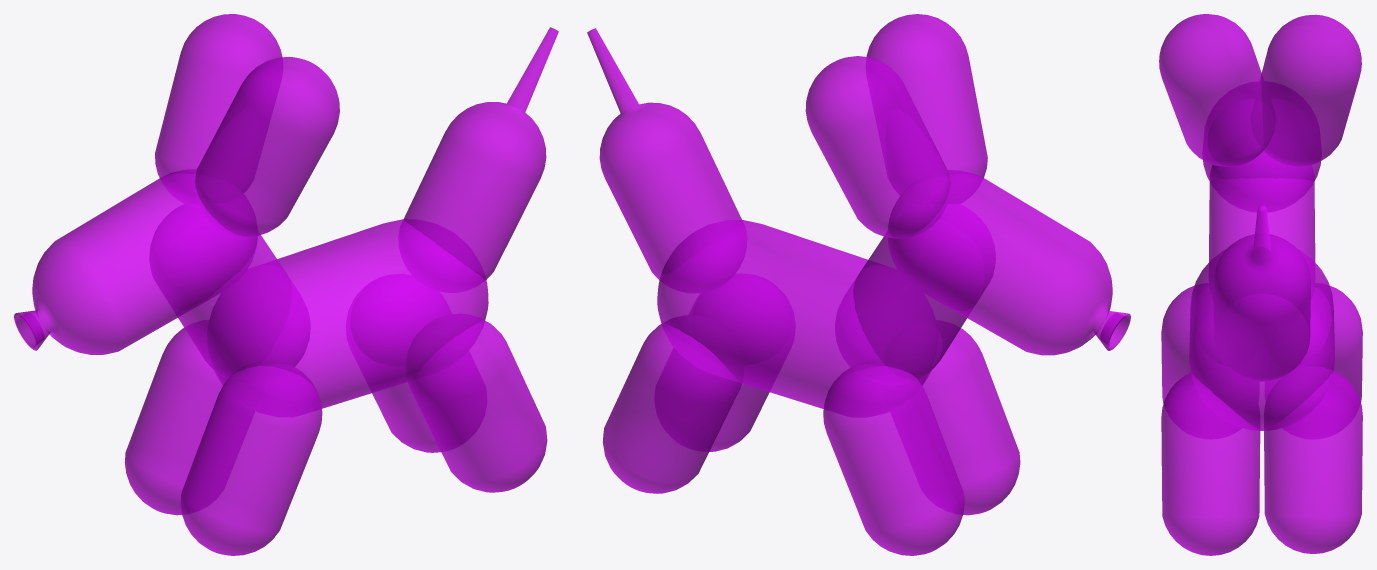
The model's file is Dog Balloon 3D.glb.
3 views of the same model, side by side, from view 1: azimuth 30°, elevation 25°; view 2: azimuth 150°, elevation 25°; view 3: azimuth 270°, elevation 25° (orthographic). The views are drawn at different scales.
Parts seen in each view (by area): view 1: Sphere.004, Sphere, Sphere.005, Sphere.008, Sphere.003, Sphere.002, Sphere.006, Sphere.001, Sphere.009, Sphere.007; view 2: Sphere.004, Sphere, Sphere.005, Sphere.009, Sphere.003, Sphere.001, Sphere.007, Sphere.002, Sphere.008, Sphere.006; view 3: Sphere.004, Sphere.007, Sphere.006, Sphere.002, Sphere.001, Sphere.005, Sphere, Sphere.003, Sphere.008, Sphere.009.
Boxes of the visible parts, x1,y1,x2,y2 form: Sphere.004: (207, 219, 488, 417); Sphere: (14, 169, 257, 354); Sphere.005: (398, 27, 558, 292); Sphere.008: (180, 363, 322, 555); Sphere.003: (149, 203, 310, 379); Sphere.002: (194, 57, 339, 236); Sphere.006: (406, 314, 547, 492); Sphere.001: (155, 14, 282, 203); Sphere.009: (124, 328, 226, 515); Sphere.007: (350, 274, 449, 452); Sphere.004: (657, 220, 937, 417); Sphere: (887, 170, 1130, 355); Sphere.005: (587, 28, 746, 292); Sphere.009: (823, 364, 964, 555); Sphere.003: (835, 204, 995, 379); Sphere.001: (805, 56, 950, 238); Sphere.007: (602, 315, 743, 493); Sphere.002: (866, 14, 987, 203); Sphere.008: (918, 328, 1020, 515); Sphere.006: (693, 274, 790, 451); Sphere.004: (1189, 249, 1334, 430); Sphere.007: (1264, 366, 1362, 553); Sphere.006: (1161, 368, 1260, 555); Sphere.002: (1159, 14, 1275, 166); Sphere.001: (1251, 14, 1361, 166); Sphere.005: (1213, 205, 1310, 381); Sphere: (1203, 98, 1320, 212); Sphere.003: (1209, 151, 1315, 299); Sphere.008: (1161, 285, 1226, 403); Sphere.009: (1298, 286, 1362, 402).
Size of the model in its own units: 4.65 by 3.95 by 1.66.
